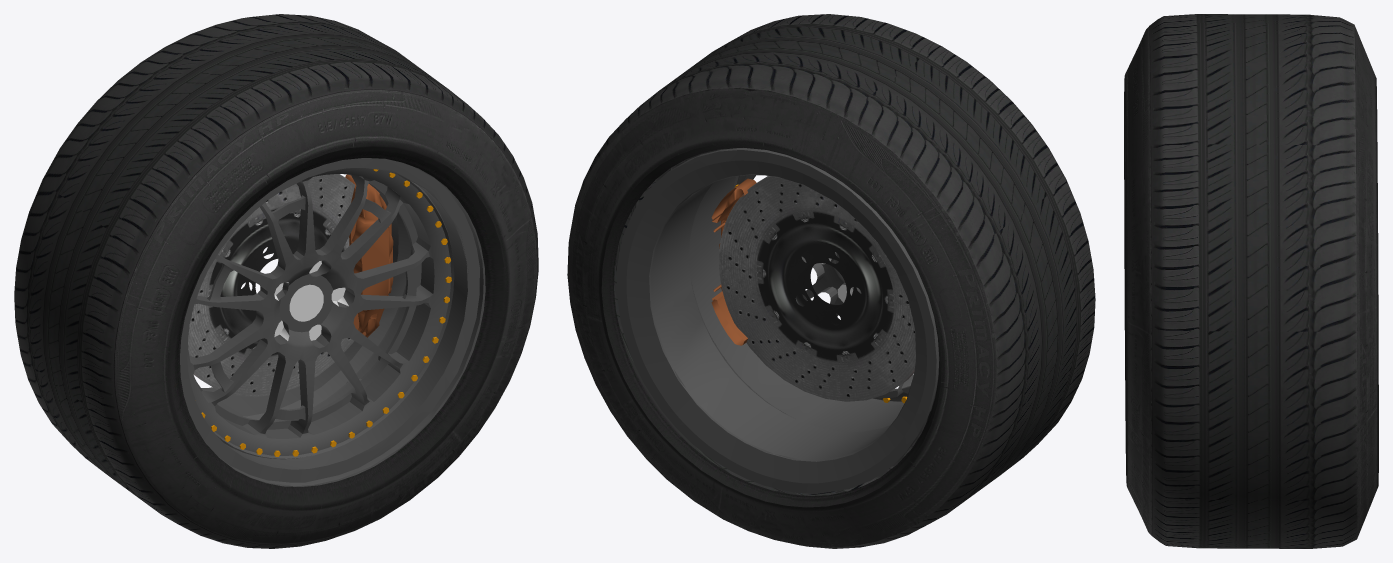
The model's file is Tyre_Type_2.fbx.
3 views of the same model, side by side, from view 1: azimuth 30°, elevation 25°; view 2: azimuth 150°, elevation 25°; view 3: azimuth 270°, elevation 25° (orthographic). The views are drawn at different scales.
Visible parts, largest first — view 1: Rubber, Rim2, Rim, Disc, Caliper, Outer Screws; view 2: Rubber, Rim, Disc, Rim2, Caliper; view 3: Rubber.
Boxes of the visible parts, x1,y1,x2,y2 form: Rubber: (14,14,538,548); Rim2: (187,168,454,459); Rim: (180,158,485,486); Disc: (188,174,355,397); Caliper: (345,174,393,337); Outer Screws: (201,169,451,456); Rubber: (567,14,1095,548); Rim: (617,148,939,493); Disc: (719,176,915,401); Rim2: (733,175,913,404); Caliper: (711,178,756,345); Rubber: (1124,14,1378,548).
Size of the model in its own units: 55.47 by 55.36 by 26.42.
